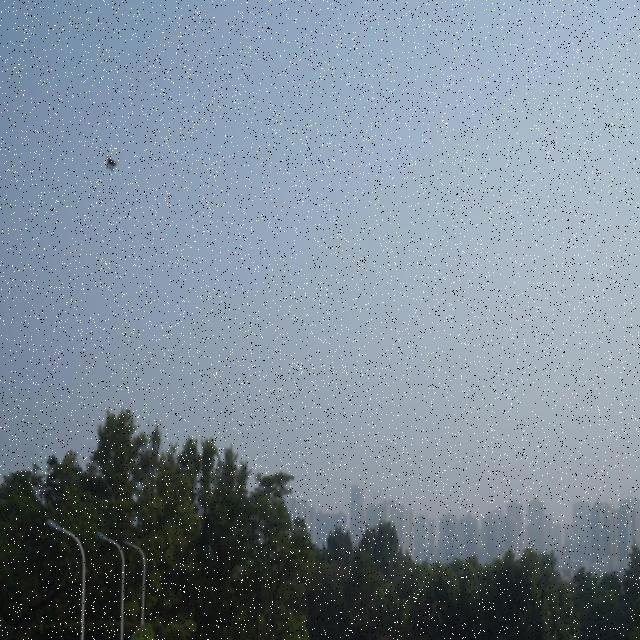UAV: (105, 154, 119, 173)
